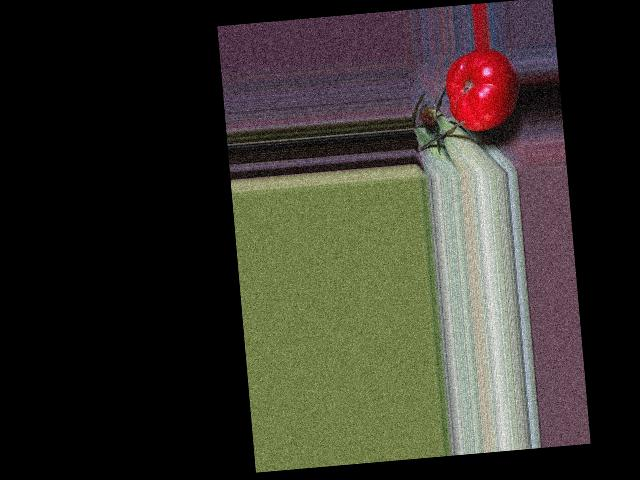tomato: (443, 47, 523, 133)
